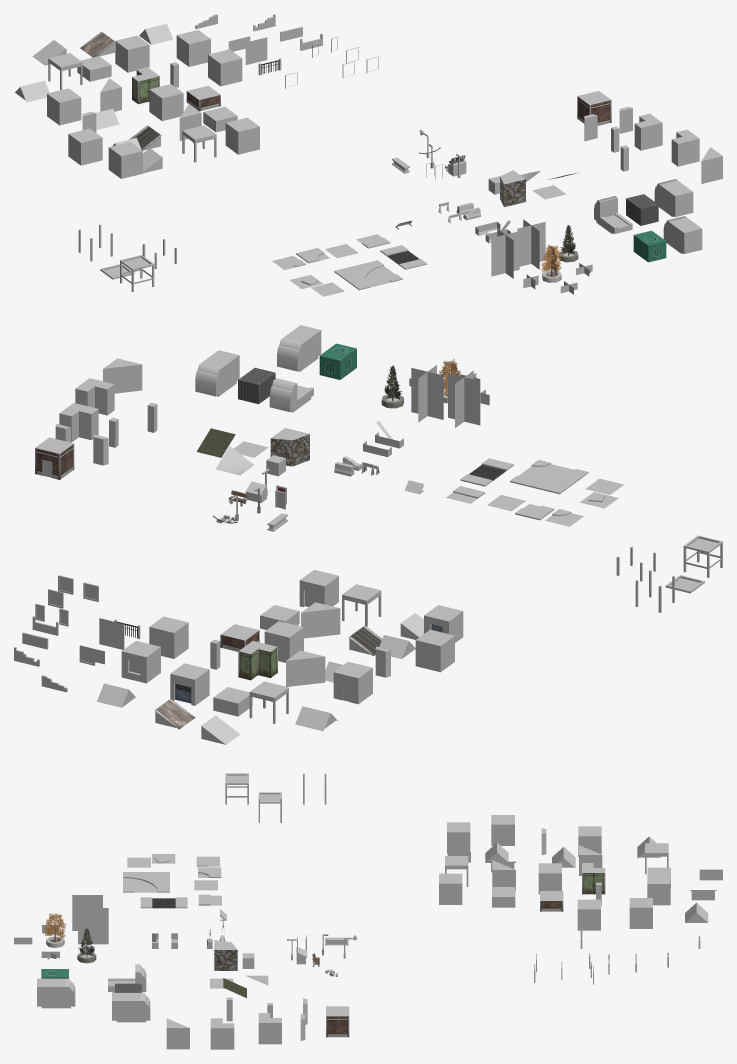
Rendered from texture-organization.gltf.
The picture shows the model from 3 angles, top to bottom: view 1: azimuth 30°, elevation 25°; view 2: azimuth 150°, elevation 25°; view 3: azimuth 270°, elevation 25°; orthographic projection. The views are drawn at different scales.
Parts seen in each view (by area): view 1: tree-pine-large2, truck-grey2, truck-green2, road-asphalt-corner2, tree-large2, wall-a-garage2, wall-a2, wall-b-door2, wall-a-window2, wall-b2, wall-a-painted2, wall-b-garage2 (+25 smaller); view 2: truck-green2, truck-grey2, tree-large2, tree-pine-large2, road-asphalt-corner2, wall-a2, wall-a-door2, wall-b-door2, wall-b-window2, wall-b-garage2, wall-b-corner2, wall-b2 (+25 smaller); view 3: truck-green2, truck-grey2, tree-large2, road-asphalt-corner2, wall-a-door2, wall-a-garage2, wall-b2, wall-b-window2, wall-a-corner2, wall-a2, wall-a-window2, wall-b-garage2 (+13 smaller).
Boxes of the visible parts, bbox=[...] form: tree-pine-large2: bbox=[491, 229, 519, 278]; truck-grey2: bbox=[654, 179, 693, 217]; truck-green2: bbox=[663, 216, 702, 253]; road-asphalt-corner2: bbox=[334, 260, 402, 290]; tree-large2: bbox=[517, 219, 545, 269]; wall-a-garage2: bbox=[225, 117, 259, 154]; wall-a2: bbox=[68, 128, 102, 165]; wall-b-door2: bbox=[47, 88, 81, 125]; wall-a-window2: bbox=[108, 142, 142, 178]; wall-b2: bbox=[208, 49, 242, 86]; wall-a-painted2: bbox=[149, 84, 183, 120]; wall-b-garage2: bbox=[115, 35, 149, 72]; truck-green2: bbox=[277, 325, 321, 371]; truck-grey2: bbox=[195, 350, 239, 396]; tree-large2: bbox=[411, 365, 443, 422]; tree-pine-large2: bbox=[448, 370, 480, 427]; road-asphalt-corner2: bbox=[510, 460, 588, 494]; wall-a2: bbox=[415, 629, 454, 672]; wall-a-door2: bbox=[35, 437, 74, 479]; wall-b-door2: bbox=[333, 661, 372, 704]; wall-b-window2: bbox=[121, 641, 160, 683]; wall-b-garage2: bbox=[170, 663, 209, 705]; wall-b-corner2: bbox=[238, 641, 277, 680]; wall-b2: bbox=[149, 616, 188, 658]; truck-green2: bbox=[37, 978, 75, 1008]; truck-grey2: bbox=[112, 992, 150, 1022]; tree-large2: bbox=[78, 908, 108, 944]; road-asphalt-corner2: bbox=[123, 872, 169, 892]; wall-a-door2: bbox=[326, 1006, 349, 1037]; wall-a-garage2: bbox=[439, 873, 462, 904]; wall-b2: bbox=[577, 899, 600, 930]; wall-b-window2: bbox=[629, 898, 652, 928]; wall-a-corner2: bbox=[210, 1018, 234, 1049]; wall-a2: bbox=[491, 815, 514, 845]; wall-a-window2: bbox=[447, 822, 470, 853]; wall-b-garage2: bbox=[647, 874, 670, 905].
Size of the model in its own units: 25.83 by 2.87 by 30.26.
